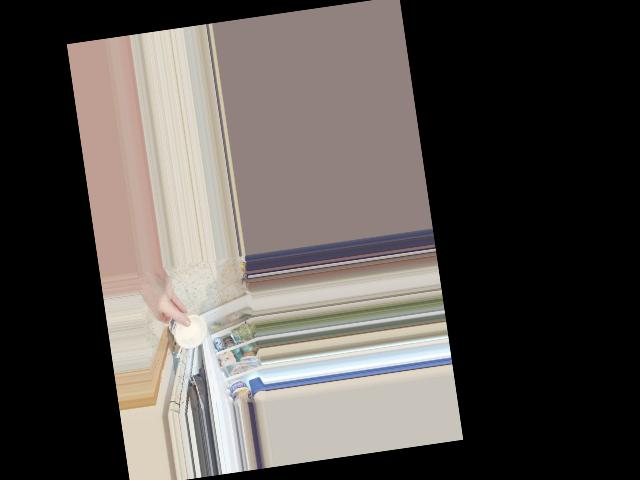cotage: (164, 309, 210, 353)
